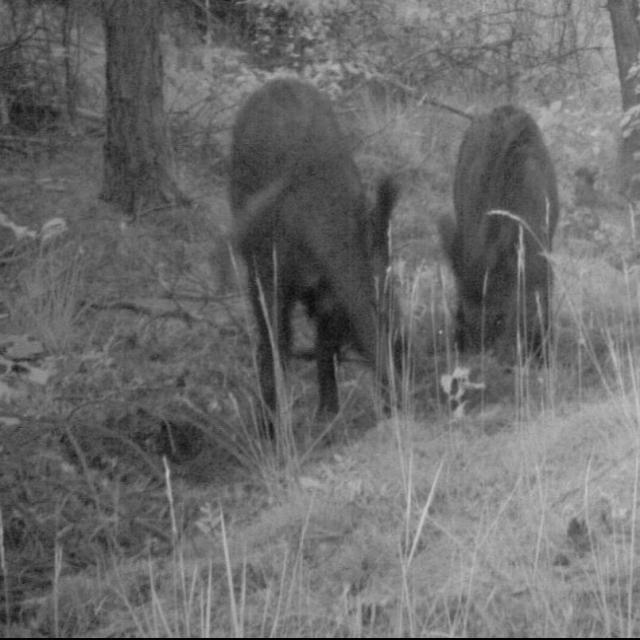pig: (223, 67, 407, 426), (430, 95, 603, 438)
